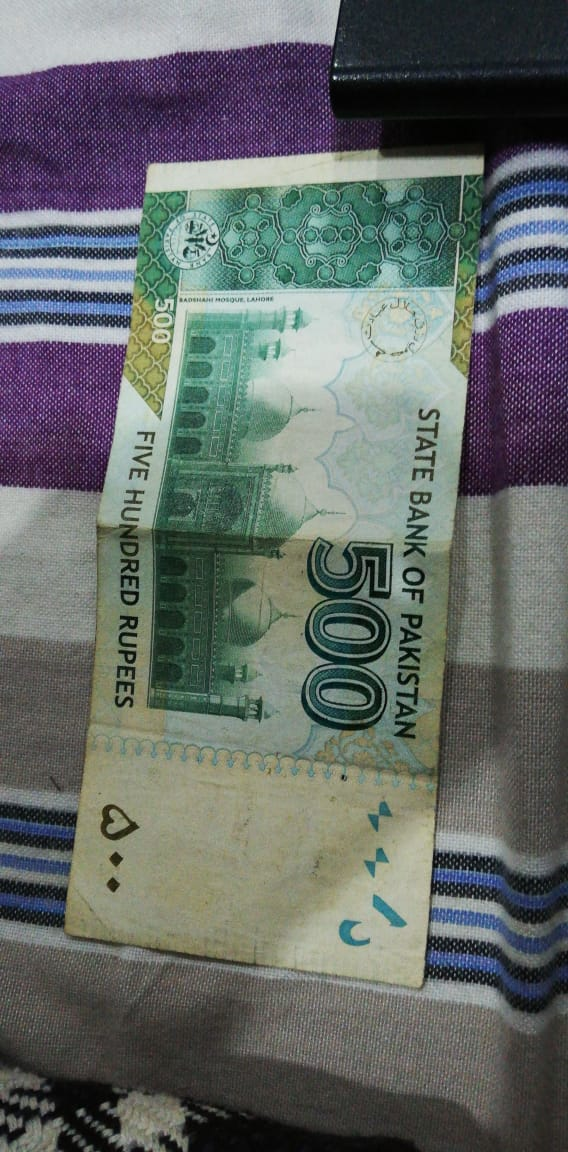500 rupee: (61, 152, 483, 1017)
